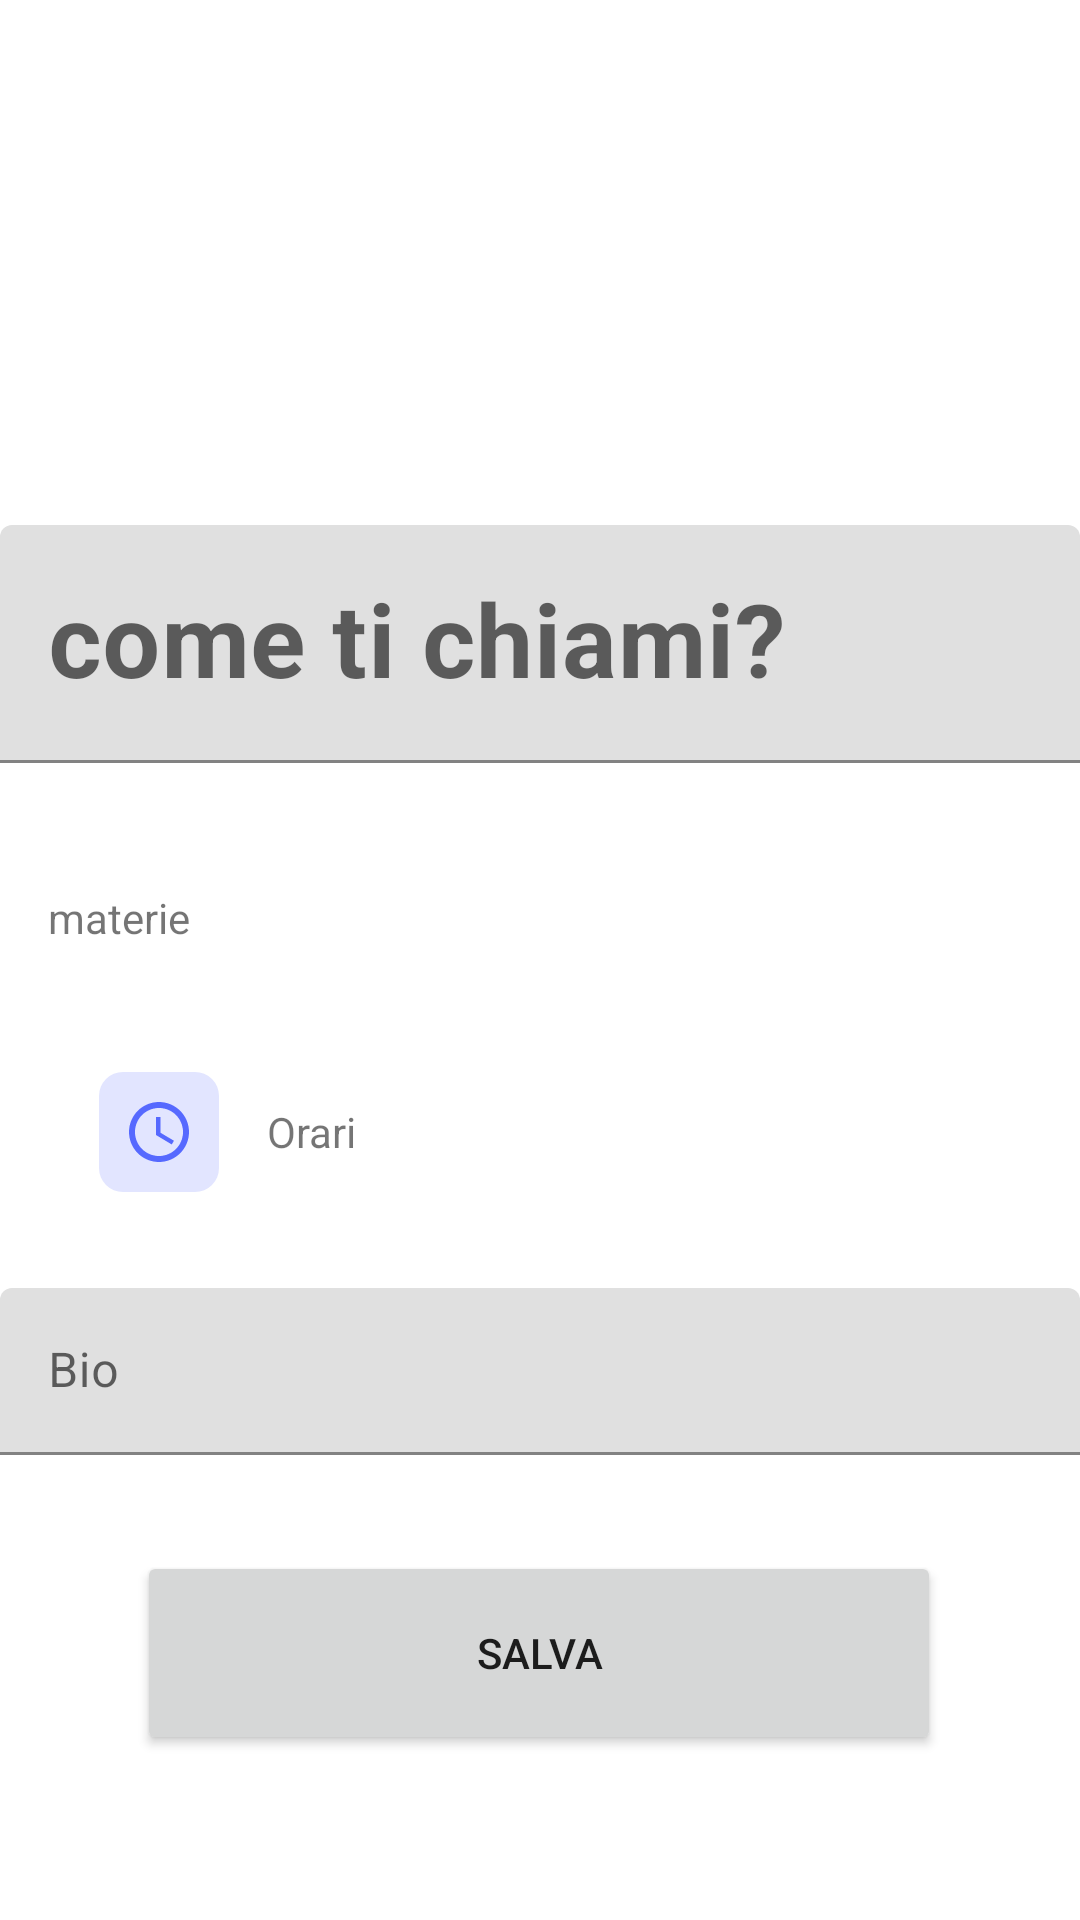

Where to tap for icons on this 1080 x 1920 app screen, as (x,y):
layerlist hours: (159,1132)
